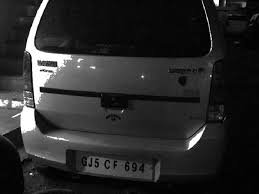numberplate: (73, 152, 153, 179)
